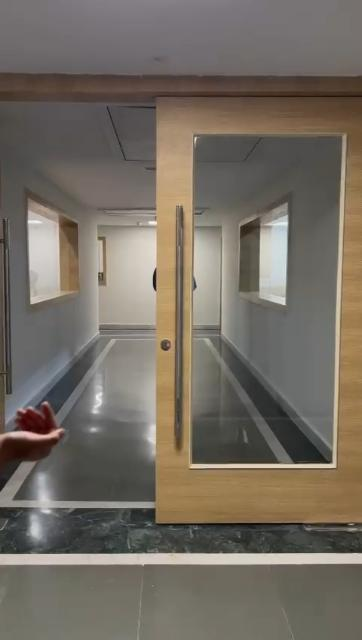door: (158, 89, 362, 528)
floor: (8, 528, 362, 640)
moving-obj: (0, 404, 68, 478)
